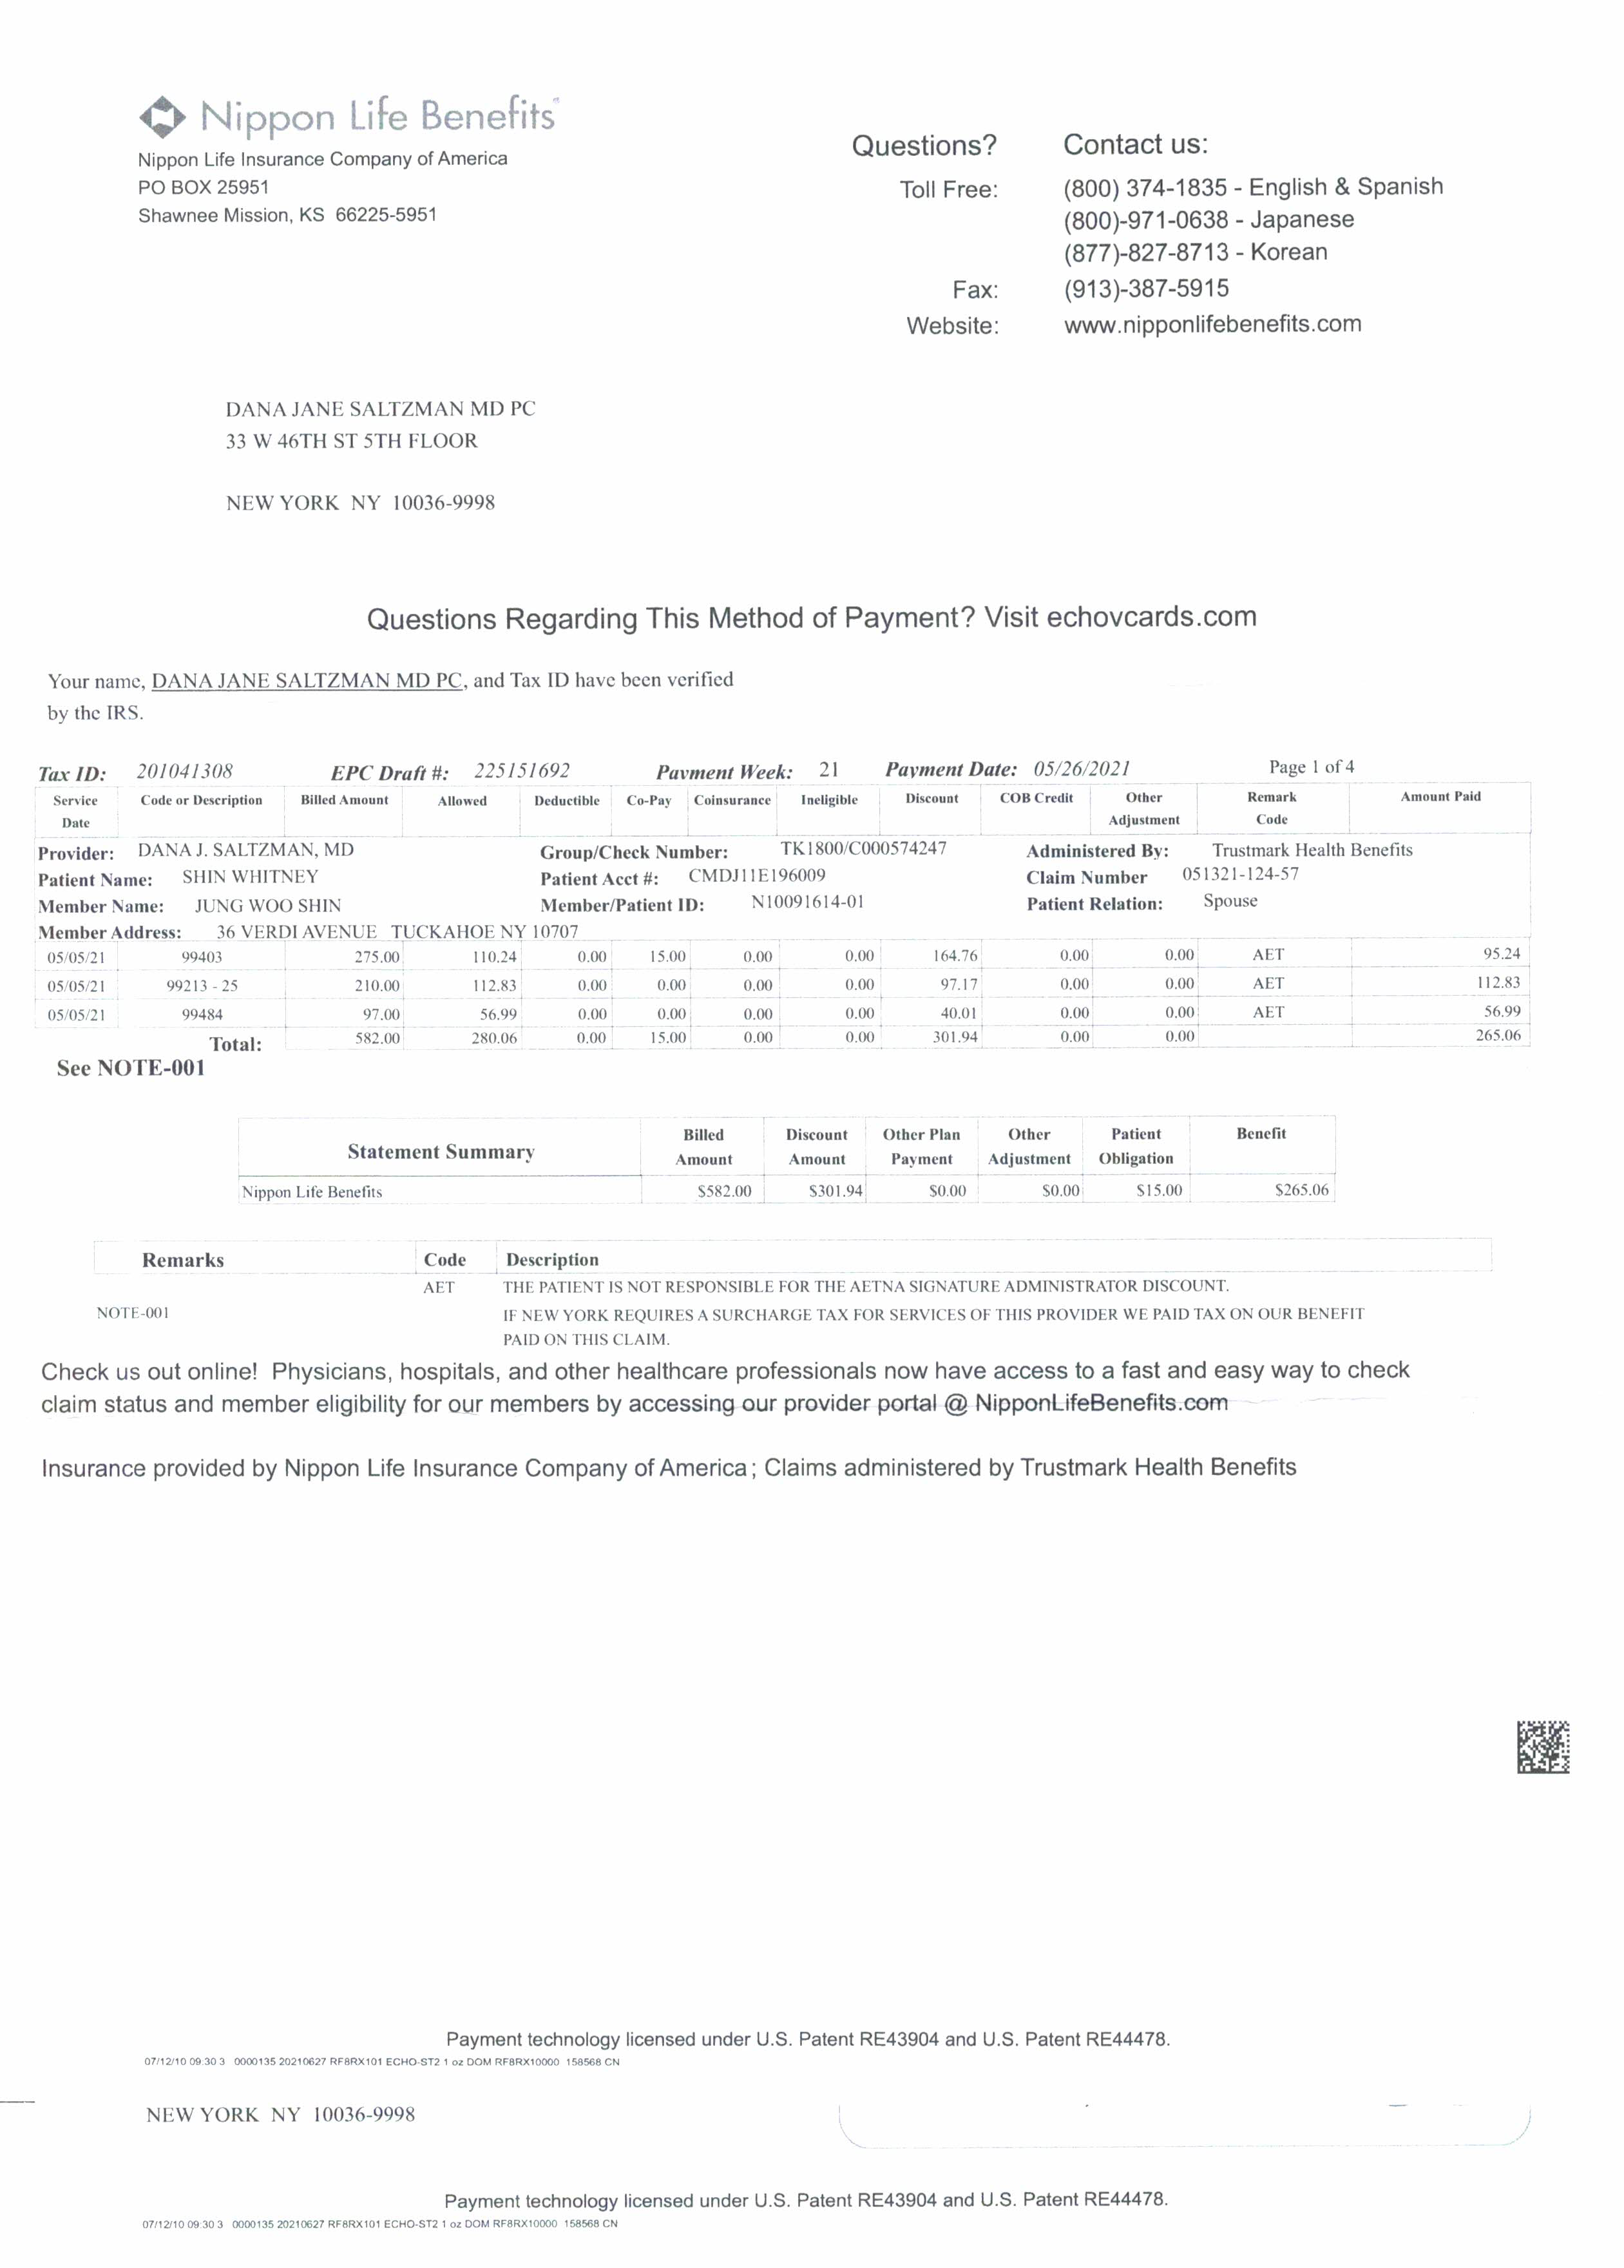data: (889, 169, 1469, 357)
table: (25, 740, 1554, 1063)
